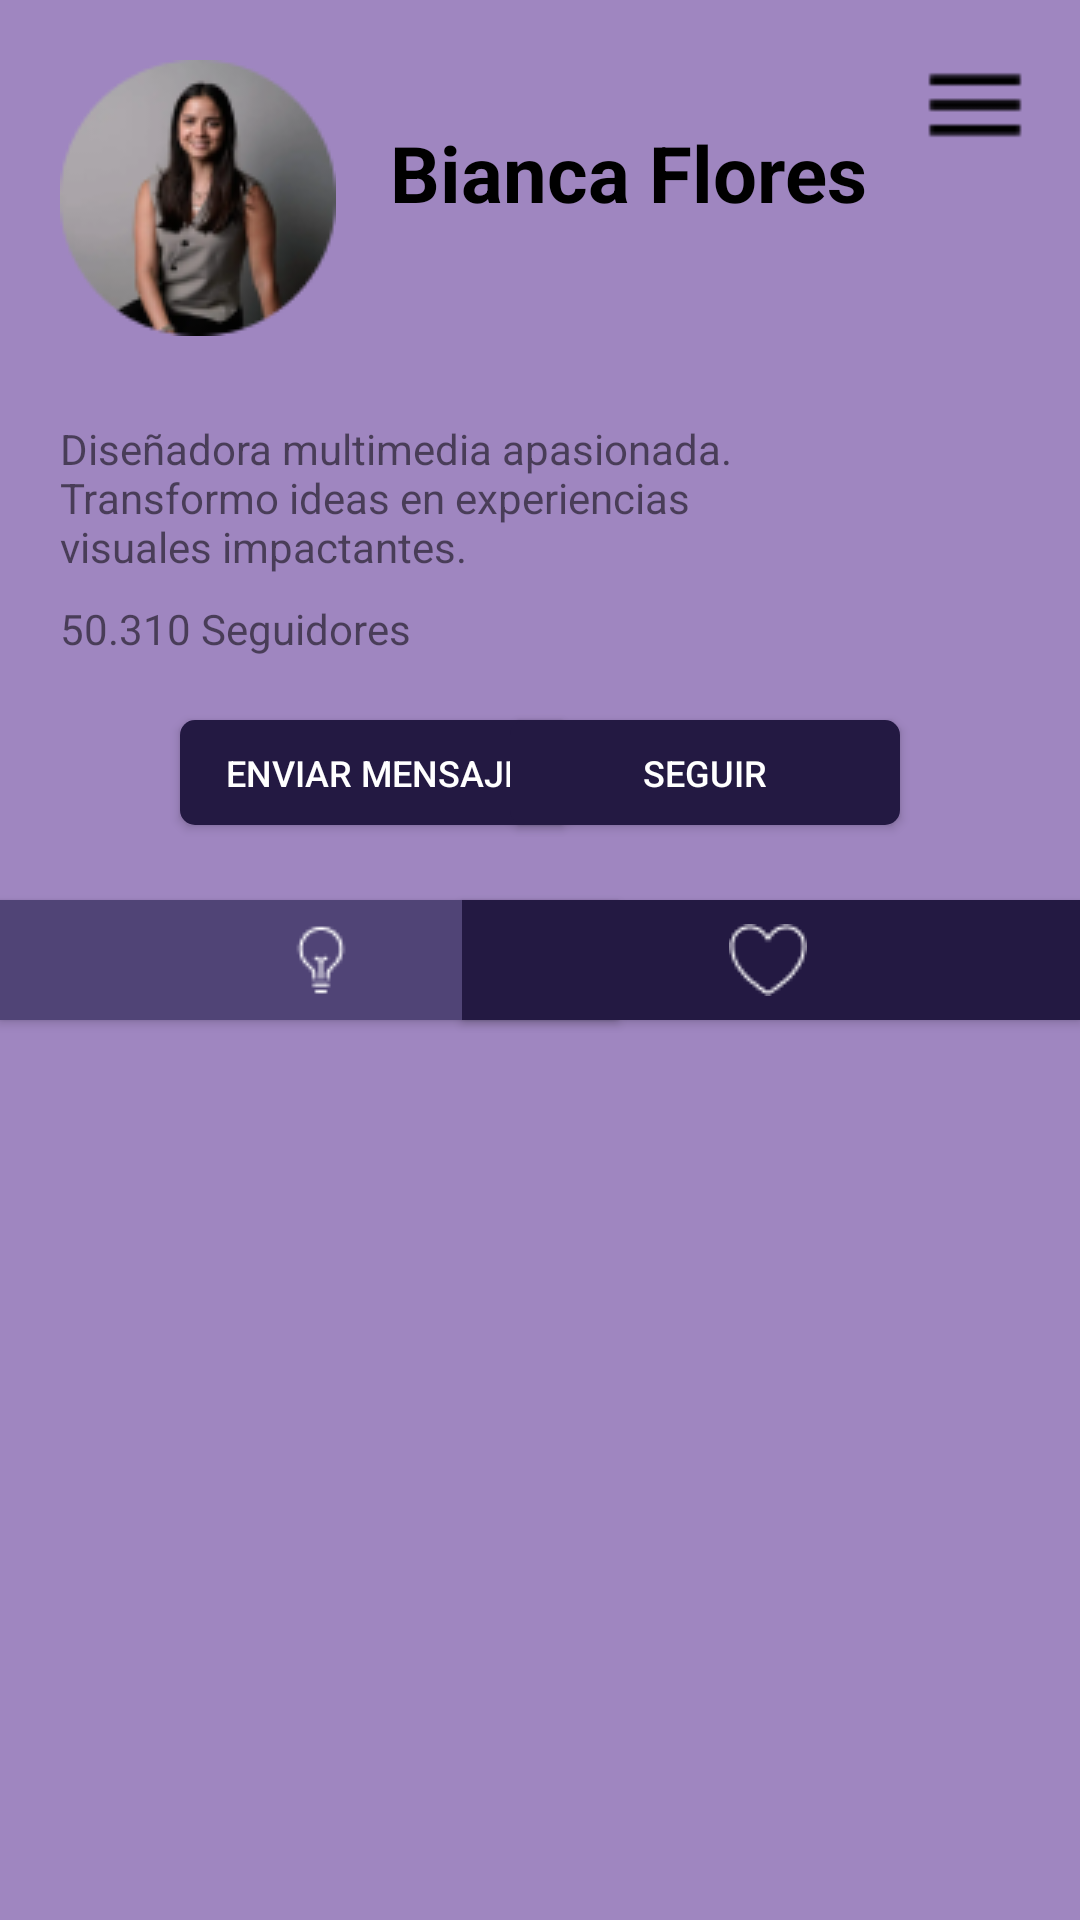

Screen size 1080x1920. Icon name, then its center in pixels as point (x, y):
Foto de perfil: point (198, 198)
Menu: point (975, 105)
